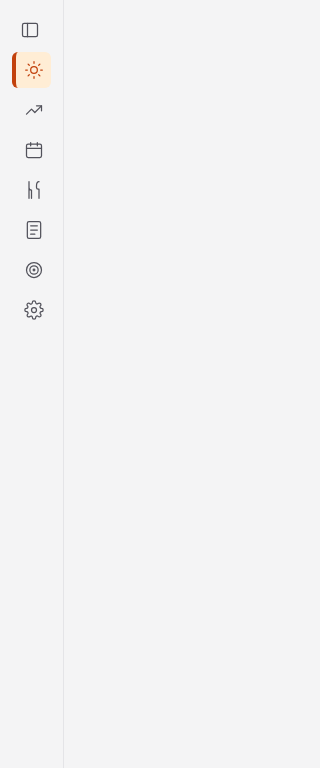
Test: Sidebar › expanding again after a collapse restores labels and persists the change
Step 1. Click the button named "expand sidebar" → click(30, 30), box [12,12,48,48]
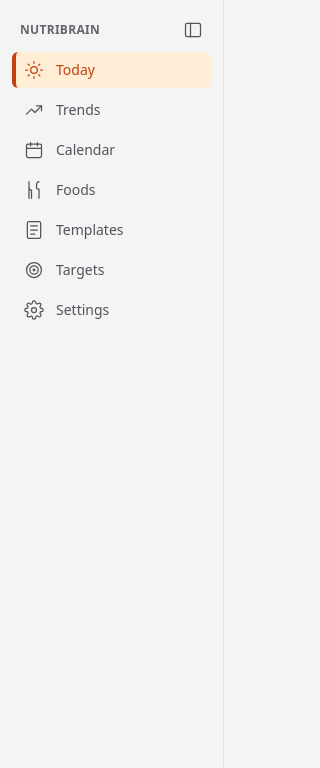
Check: the button named "collapse sidebar" is expanded, box [175,12,211,48]
